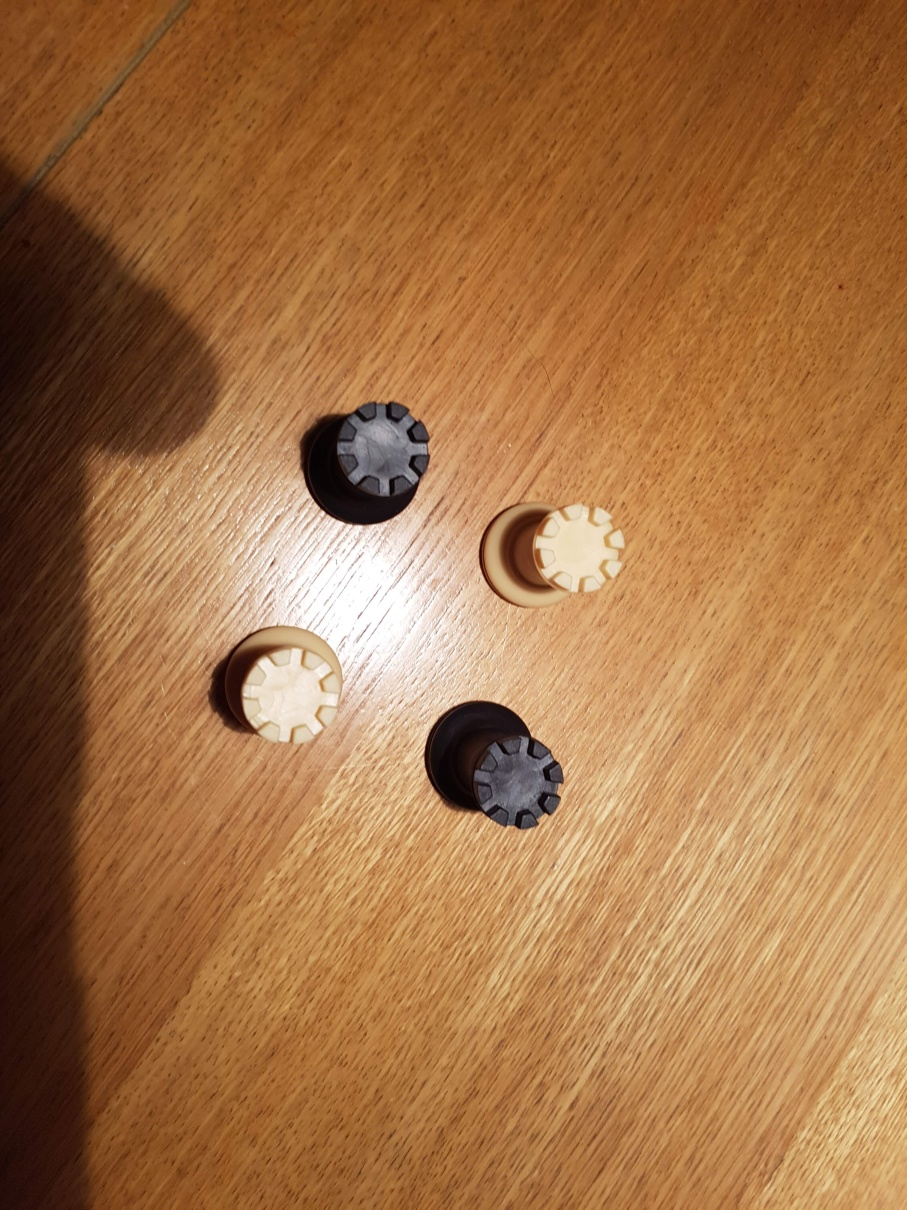chess_rook: (427, 701, 563, 828), (480, 500, 625, 608), (308, 401, 432, 522), (226, 625, 343, 748)
